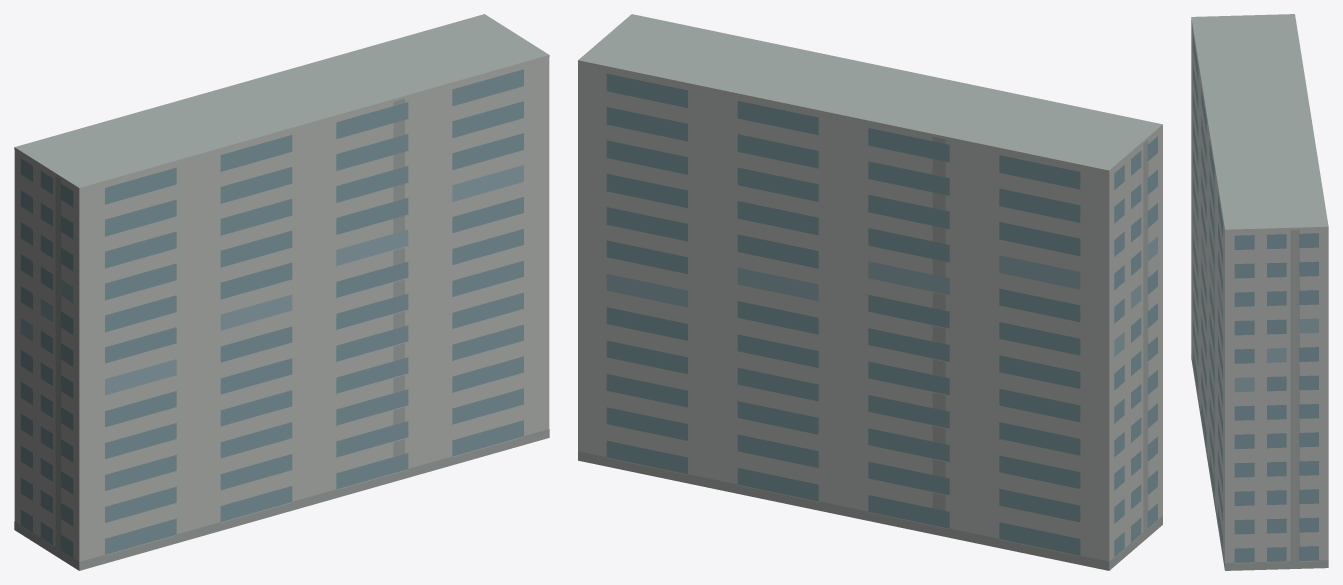
File: residential-91b4c670-835a-496e-94fa-819385fe6840.glb
3 renders of one model, left to right at view 1: azimuth 30°, elevation 25°; view 2: azimuth 150°, elevation 25°; view 3: azimuth 270°, elevation 25°, orthographic. The views are drawn at different scales.
Parts seen in each view (by area): view 1: residential-91b4c670-835a-496e-94fa-819385fe6840.tmp; view 2: residential-91b4c670-835a-496e-94fa-819385fe6840.tmp; view 3: residential-91b4c670-835a-496e-94fa-819385fe6840.tmp.
Boxes of the visible parts, x1,y1,x2,y2 form: residential-91b4c670-835a-496e-94fa-819385fe6840.tmp: (14,14,549,570); residential-91b4c670-835a-496e-94fa-819385fe6840.tmp: (578,14,1162,570); residential-91b4c670-835a-496e-94fa-819385fe6840.tmp: (1191,14,1328,570).
Bounding box in the file's own units: 48.79 × 36 × 13.14.
